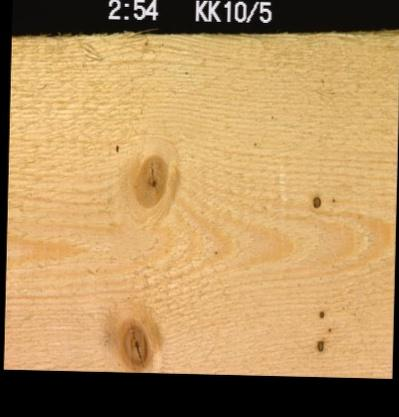dry_knot: (310, 194, 320, 208), (314, 338, 323, 351), (316, 308, 324, 318)
sound_knot: (132, 152, 167, 208), (116, 315, 150, 371)
